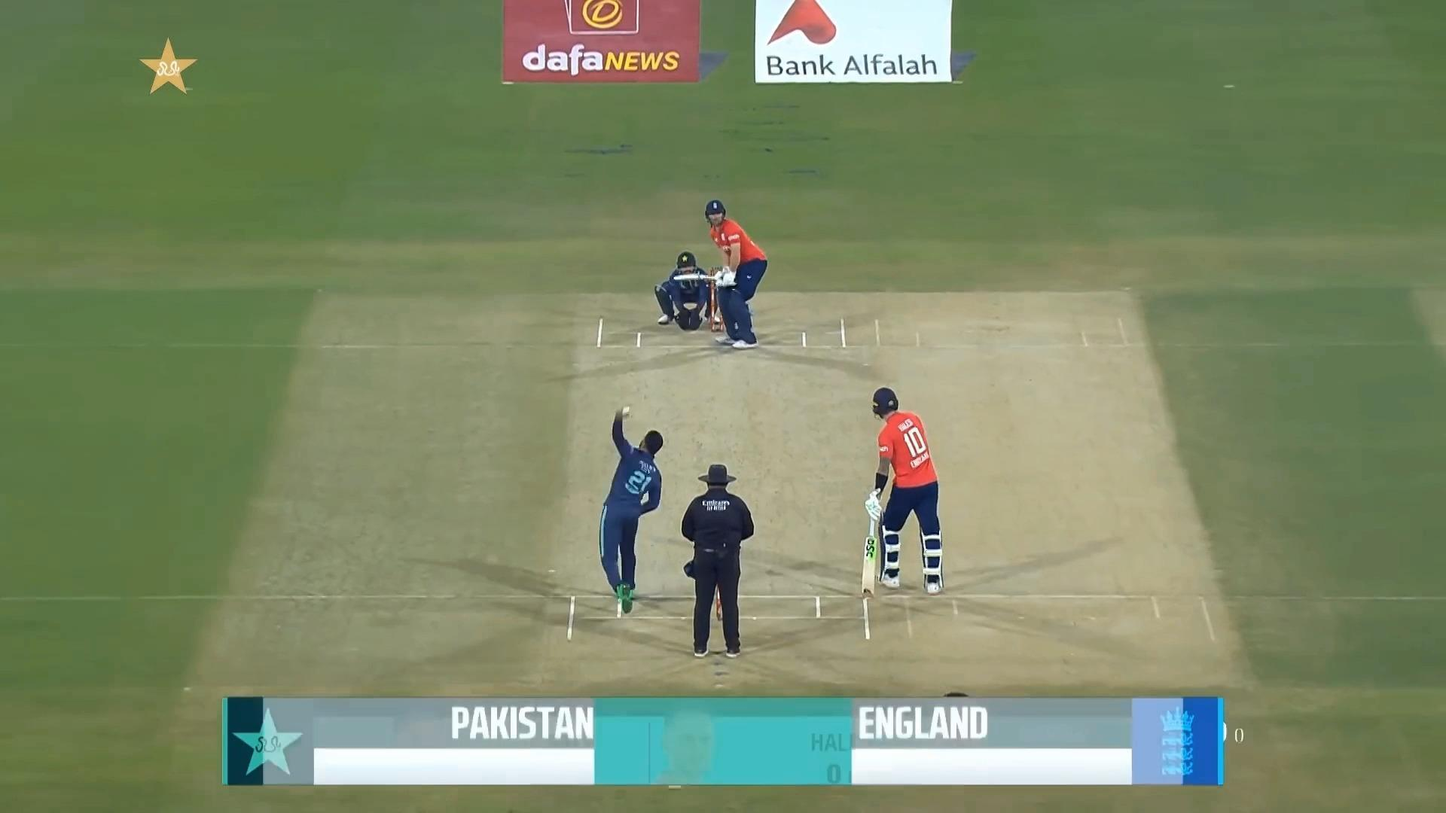BM 1: (673, 199, 768, 351)
BO: (599, 407, 664, 613)
